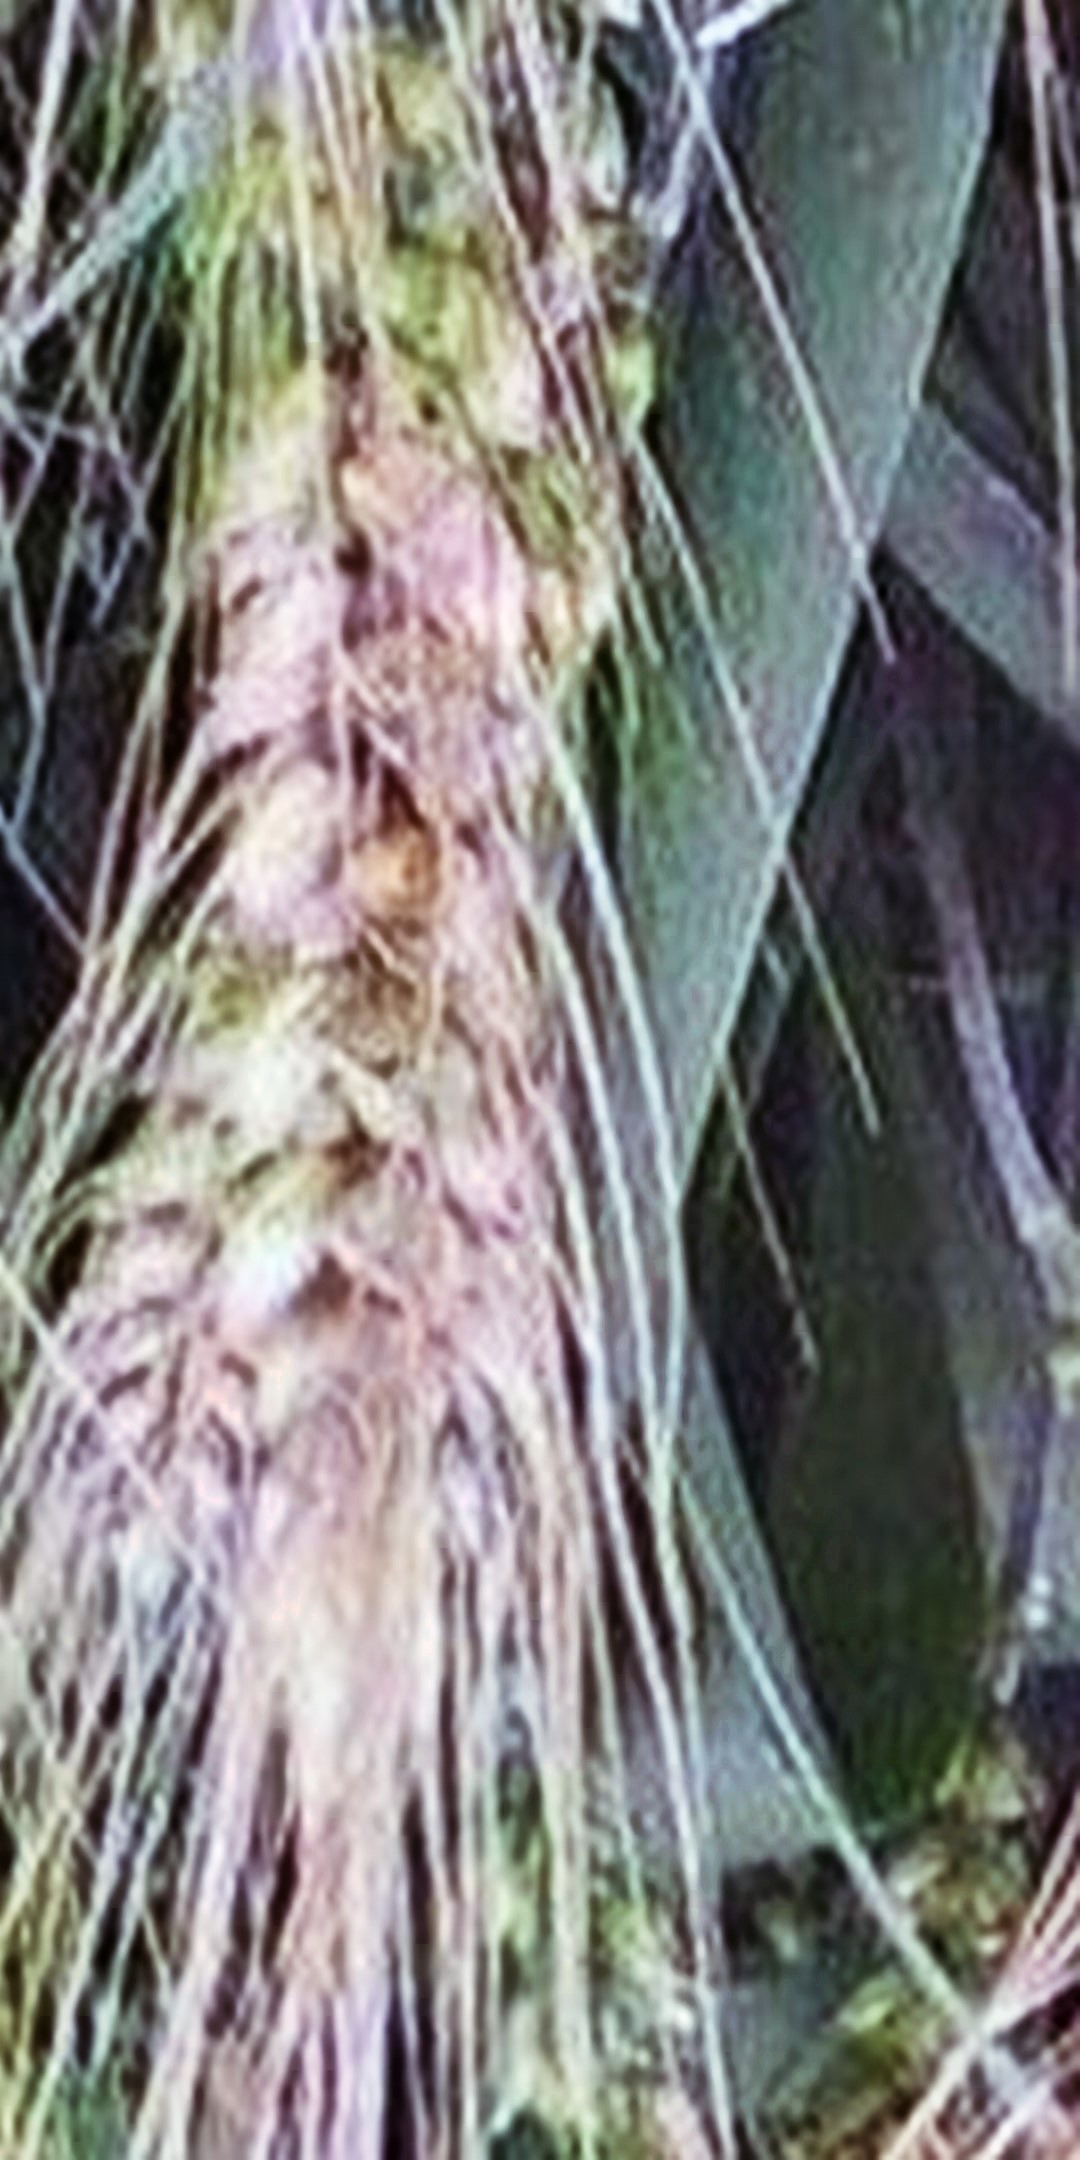Wheat scab: (132, 22, 599, 1584)
